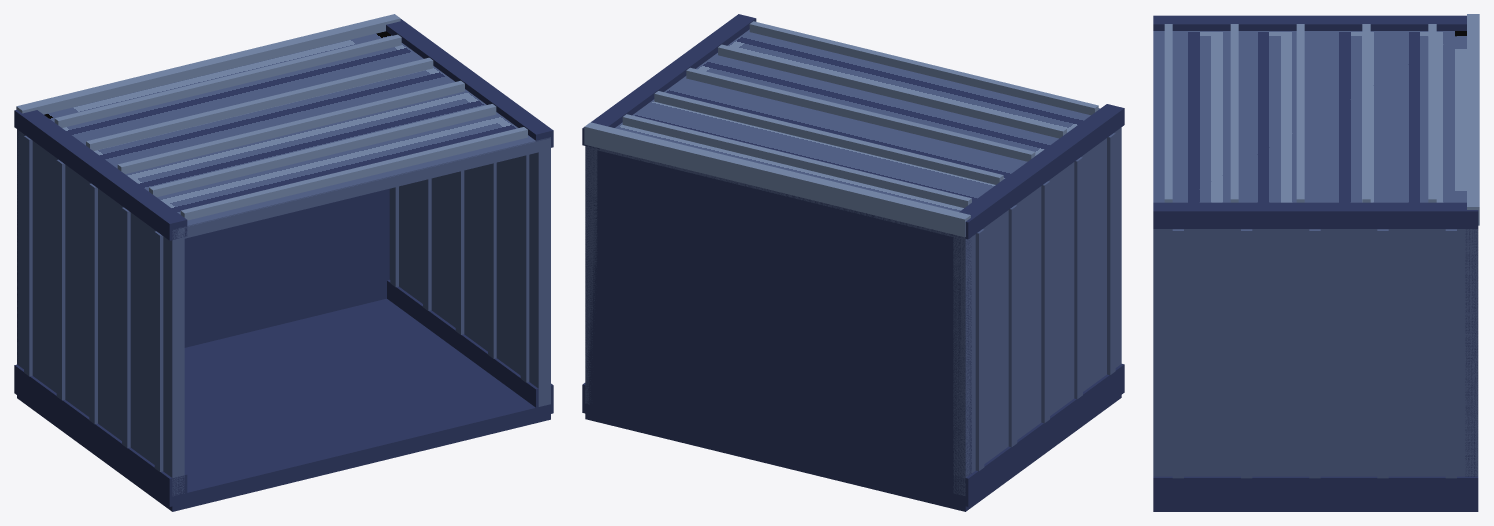
The model's file is CMU3DContainerVerticalTopCloud.glb.
The picture shows the model from 3 angles, left to right: view 1: azimuth 30°, elevation 25°; view 2: azimuth 150°, elevation 25°; view 3: azimuth 270°, elevation 25°; orthographic projection. The views are drawn at different scales.
Parts seen in each view (by area): view 1: long corrugated shell side (×2), continuous container floor, original rear section roof, closed rear end wall, raised physical side corrugation (×10), long upper side rail (×2), lower side skid (×2), rear end upper closing rail, steel roof sheet, raised transverse roof corrugation 2, raised transverse roof corrugation 3, raised transverse roof corrugation 1 (+2 smaller); view 2: closed rear end wall, long corrugated shell side (×2), original rear section roof, raised physical side corrugation (×5), rear end upper closing rail, long upper side rail (×2), continuous container floor, lower side skid, raised transverse roof corrugation 0, raised transverse roof corrugation 2, raised transverse roof corrugation 4, raised transverse roof corrugation 3 (+2 smaller); view 3: long corrugated shell side, original rear section roof, raised physical side corrugation (×5), long upper side rail (×2), lower side skid, rear end upper closing rail, closed rear end wall, continuous container floor, raised transverse roof corrugation 0, raised transverse roof corrugation 1, raised transverse roof corrugation 2, raised transverse roof corrugation 3 (+1 smaller).
Boxes of the visible parts, x1=… form: long corrugated shell side (×2): x1=17, y1=129, x2=550, y2=496; continuous container floor: x1=17, y1=298, x2=550, y2=511; original rear section roof: x1=44, y1=31, x2=550, y2=229; closed rear end wall: x1=17, y1=130, x2=389, y2=362; raised physical side corrugation (×10): x1=24, y1=135, x2=529, y2=471; long upper side rail (×2): x1=14, y1=19, x2=553, y2=240; lower side skid (×2): x1=14, y1=279, x2=553, y2=506; rear end upper closing rail: x1=16, y1=14, x2=400, y2=114; steel roof sheet: x1=184, y1=141, x2=538, y2=238; raised transverse roof corrugation 2: x1=117, y1=80, x2=464, y2=174; raised transverse roof corrugation 3: x1=86, y1=57, x2=433, y2=150; raised transverse roof corrugation 1: x1=149, y1=104, x2=496, y2=197; closed rear end wall: x1=585, y1=146, x2=971, y2=495; long corrugated shell side (×2): x1=585, y1=127, x2=1121, y2=495; original rear section roof: x1=615, y1=29, x2=1099, y2=211; raised physical side corrugation (×5): x1=975, y1=133, x2=1115, y2=471; rear end upper closing rail: x1=584, y1=122, x2=970, y2=237; long upper side rail (×2): x1=582, y1=14, x2=1124, y2=239; continuous container floor: x1=585, y1=395, x2=1121, y2=511; lower side skid: x1=950, y1=364, x2=1124, y2=506; raised transverse roof corrugation 0: x1=749, y1=21, x2=1098, y2=115; raised transverse roof corrugation 2: x1=686, y1=67, x2=1035, y2=161; raised transverse roof corrugation 4: x1=622, y1=114, x2=971, y2=207; raised transverse roof corrugation 3: x1=654, y1=91, x2=1003, y2=184; long corrugated shell side: x1=1153, y1=229, x2=1478, y2=476; original rear section roof: x1=1153, y1=31, x2=1466, y2=202; raised physical side corrugation (×5): x1=1172, y1=229, x2=1456, y2=478; long upper side rail (×2): x1=1153, y1=15, x2=1478, y2=228; lower side skid: x1=1153, y1=476, x2=1478, y2=507; rear end upper closing rail: x1=1467, y1=14, x2=1479, y2=225; closed rear end wall: x1=1465, y1=229, x2=1478, y2=476; continuous container floor: x1=1153, y1=507, x2=1478, y2=511; raised transverse roof corrugation 0: x1=1164, y1=24, x2=1172, y2=202; raised transverse roof corrugation 1: x1=1230, y1=24, x2=1238, y2=202; raised transverse roof corrugation 2: x1=1296, y1=24, x2=1304, y2=202; raised transverse roof corrugation 3: x1=1362, y1=24, x2=1370, y2=202.
Size of the model in its own units: 1.43 by 1.03 by 1.
4 materials, 1 textured.
